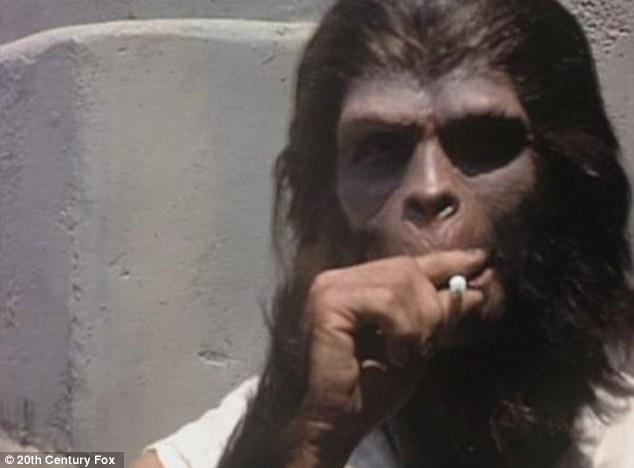Cigarette: (449, 272, 466, 300)
